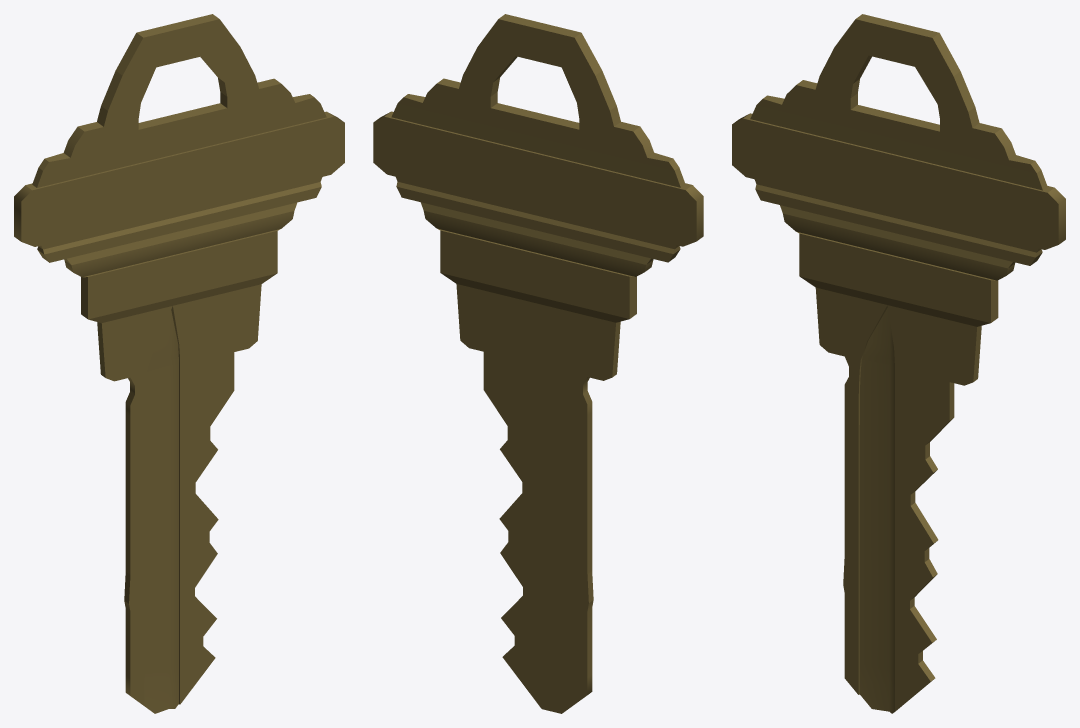
Rendered from Key.fbx.
3 renders of one model, left to right at view 1: azimuth 30°, elevation 25°; view 2: azimuth 150°, elevation 25°; view 3: azimuth 330°, elevation 25°, orthographic.
Visible parts, largest first — view 1: pCube1; view 2: pCube1; view 3: pCube1.
Part boxes in pixels (left/top/right/bottom): pCube1: left=14, top=14, right=344, bottom=713; pCube1: left=373, top=14, right=703, bottom=713; pCube1: left=732, top=14, right=1065, bottom=713.
Bounding box in the file's own units: 28.6 × 57.55 × 1.09.
